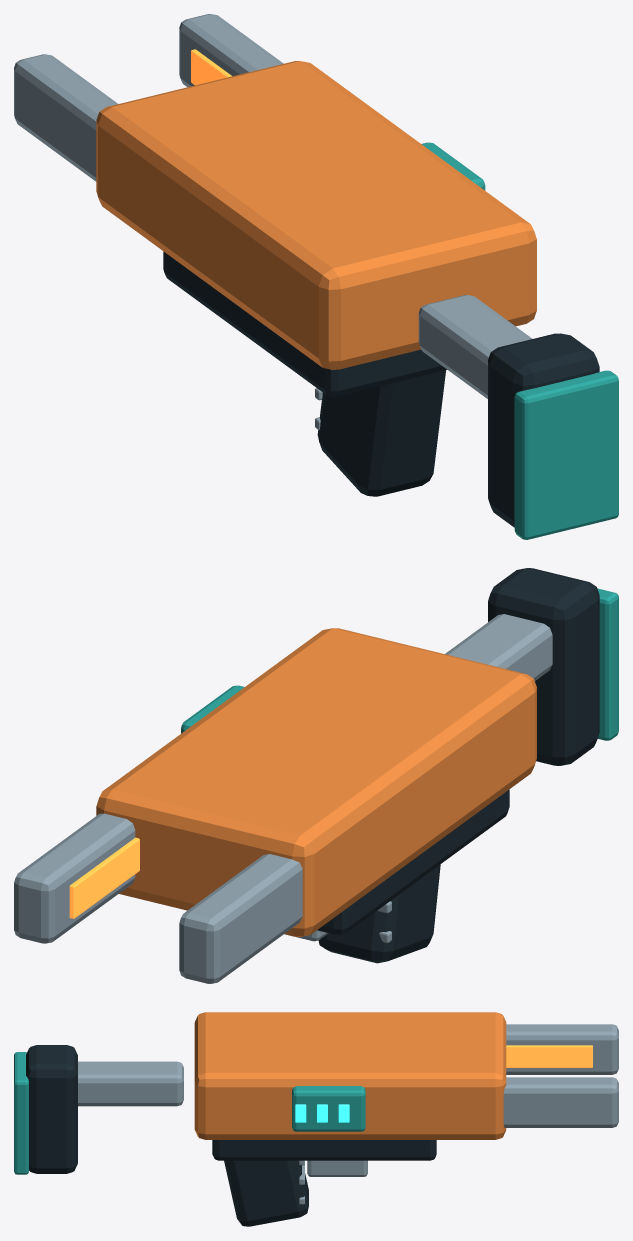
File: sugar_lance.glb
The picture shows the model from 3 angles, top to bottom: view 1: azimuth 30°, elevation 25°; view 2: azimuth 150°, elevation 25°; view 3: azimuth 270°, elevation 25°; orthographic projection. The views are drawn at different scales.
Parts seen in each view (by area): view 1: Geometry_sugar_lance; view 2: Geometry_sugar_lance; view 3: Geometry_sugar_lance.
Part boxes in pixels (bbox=[...]): Geometry_sugar_lance: bbox=[14, 14, 618, 539]; Geometry_sugar_lance: bbox=[14, 568, 618, 983]; Geometry_sugar_lance: bbox=[14, 1012, 618, 1226].
Bounding box in the file's own units: 0.42 × 0.4493 × 1.4.
